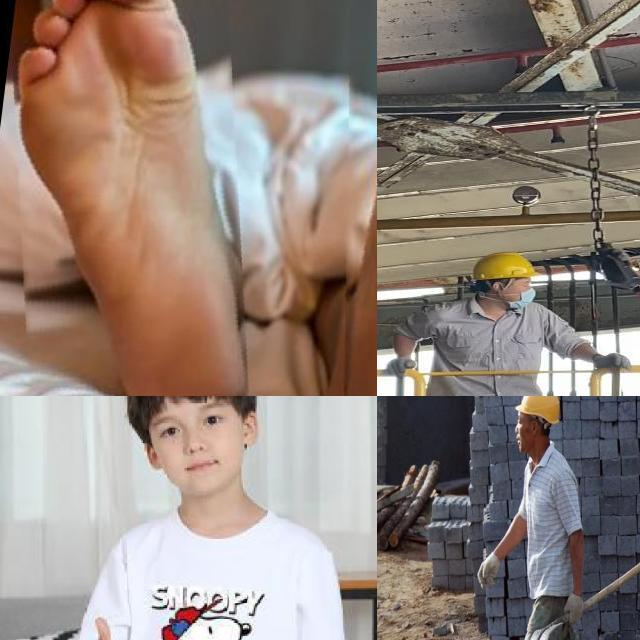Barefoots: (8, 0, 247, 396)
No_Ear-Protection: (242, 410, 260, 452), (531, 419, 538, 437)
No_Glasses: (189, 396, 227, 436), (150, 412, 187, 452)
face_nomask: (149, 396, 243, 493), (515, 425, 531, 452)
hand_glove: (478, 551, 501, 589), (564, 593, 584, 623)
hand_noglove: (78, 615, 113, 640)
head_helmet: (515, 396, 560, 424)
person: (70, 396, 353, 640)
